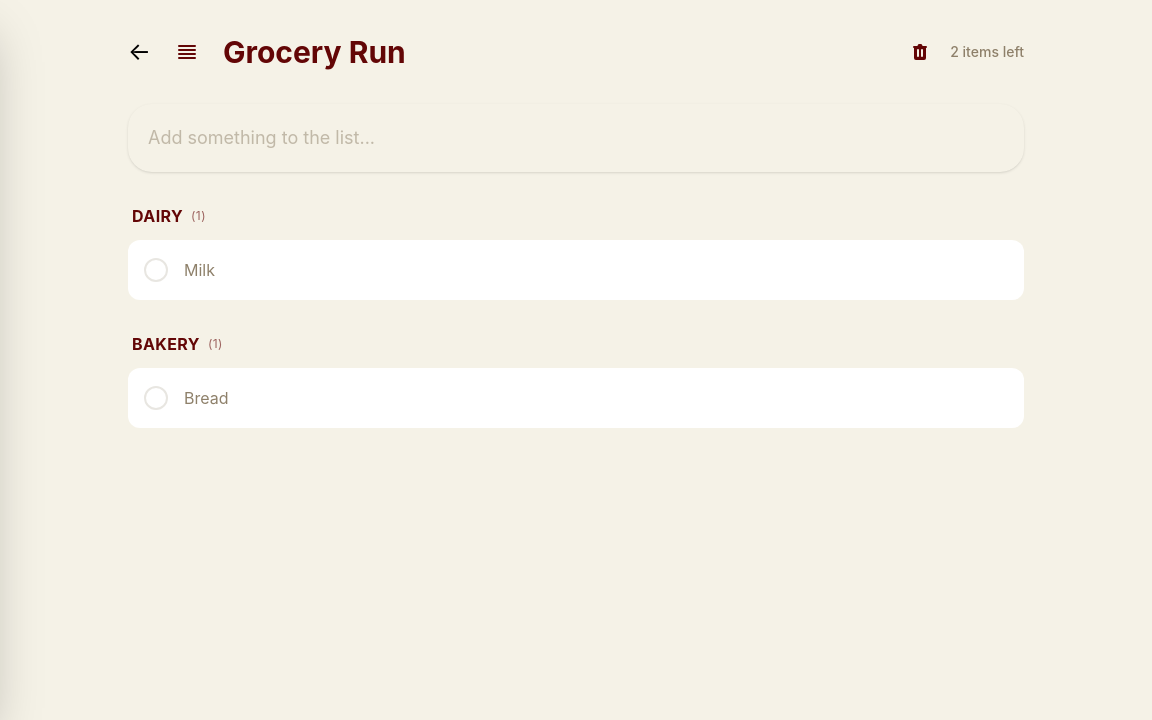
Scenario: fe-bug-011 — ShoppingList edit mode button layout › [BUG-011] Cancel exits bulk delete mode
Click the button titled "Bulk Delete Mode" at {"x": 920, "y": 52}, box x1=902 y1=34 x2=938 y2=70
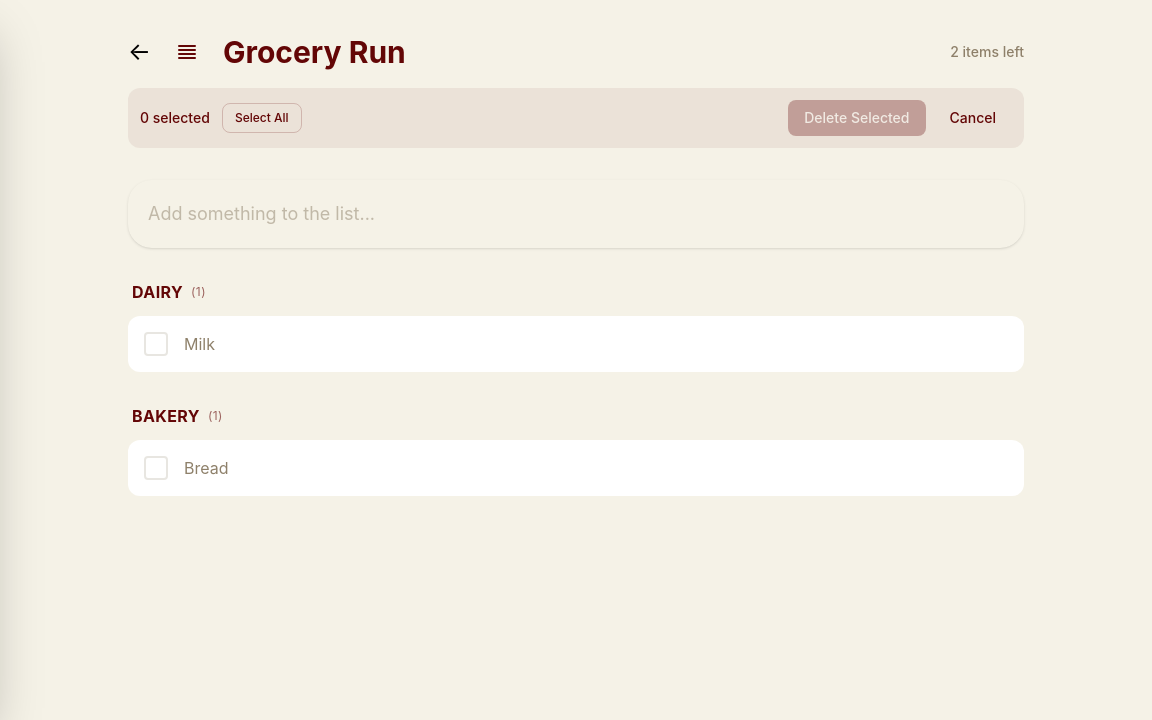
Click the button "Cancel" at {"x": 973, "y": 118}, box x1=934 y1=100 x2=1012 y2=136
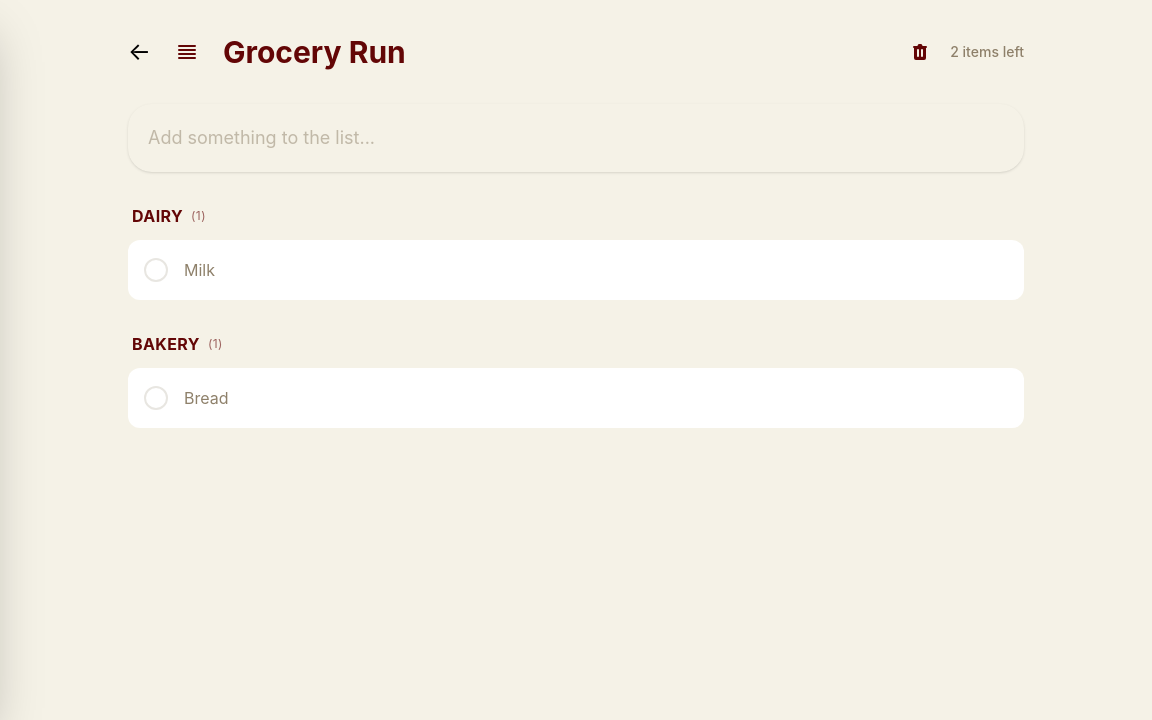
Expected: the button "Select All" is gone
Expected: the button "Delete Selected" is gone
